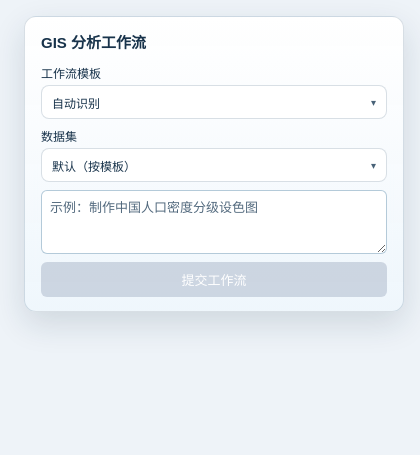
Test: WorkflowDock › opens in-panel dropdown menus instead of native selects
The image size is (420, 455).
展开后模板选项在面板内列表中（原生 select 弹层会飞出窗口）
Click the button with test id "workflow-template-select" at x=76, y=104, box [41,85,387,119]
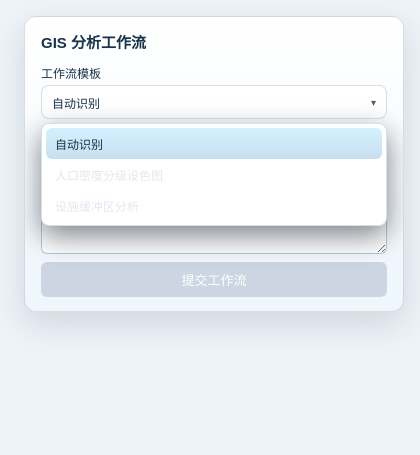
Expected: the option "自动识别" is shown, [46,128,382,159]
Expected: the option "人口密度分级设色图" is shown
选择模板：回调收起列表，按钮显示所选模板
Click the option "人口密度分级设色图" at x=109, y=176, box [46,159,382,190]
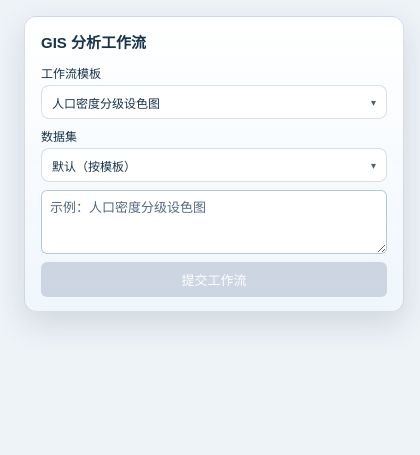
Expected: the list with test id "workflow-template-select-list" is gone
Expected: the button with test id "workflow-template-select" shows "人口密度分级设色图", [41,85,387,119]
数据集下拉同样可用
Click the button with test id "workflow-primary-dataset-select" at x=94, y=166, box [41,148,387,182]
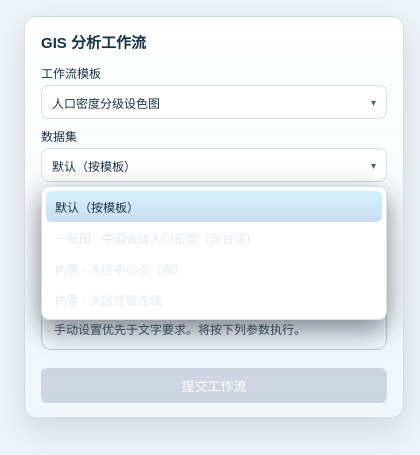
Expected: the list with test id "workflow-primary-dataset-select-list" is shown, [41,186,387,320]
